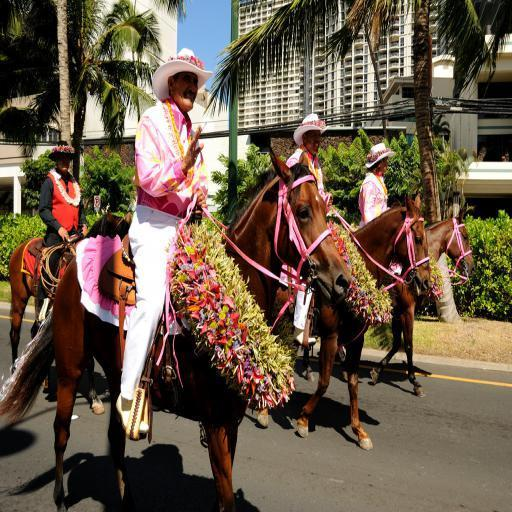horse: (0, 145, 353, 511), (254, 194, 432, 450), (304, 210, 475, 400), (5, 216, 133, 414)
